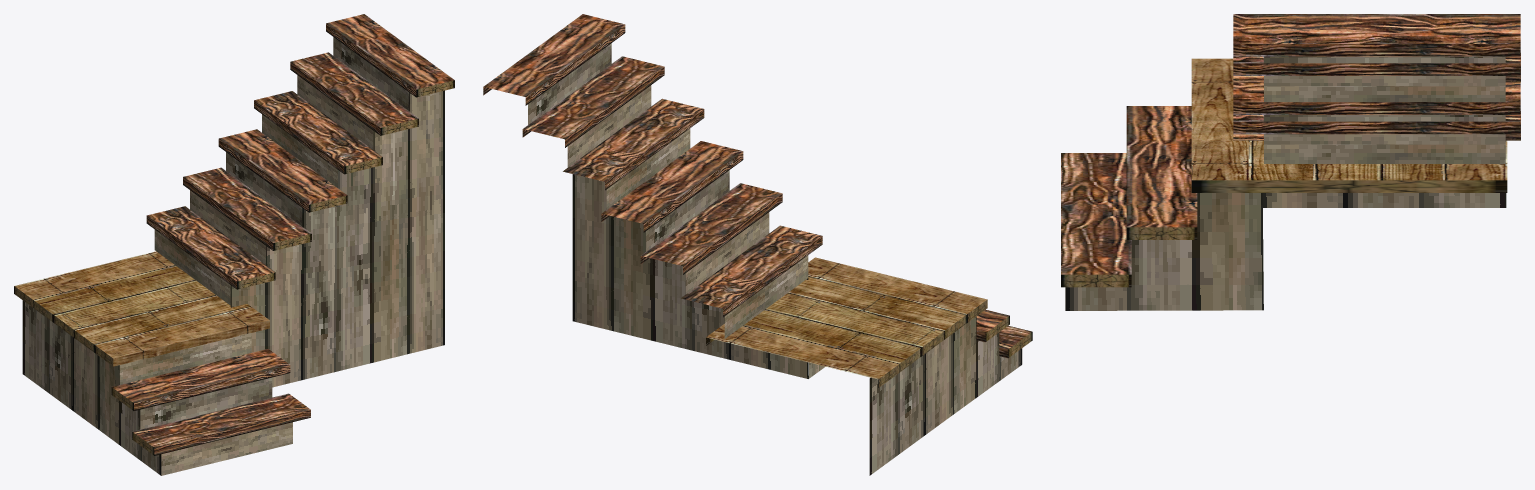
The model's file is LAKETOWN_GRANDMA_PS_GM_STAIR33.fbx.
The picture shows the model from 3 angles, left to right: view 1: azimuth 30°, elevation 25°; view 2: azimuth 150°, elevation 25°; view 3: azimuth 270°, elevation 25°; orthographic projection. The views are drawn at different scales.
Parts seen in each view (by area): view 1: LAKETOWN_GRANDMA_PS_GM_STAIR33; view 2: LAKETOWN_GRANDMA_PS_GM_STAIR33; view 3: LAKETOWN_GRANDMA_PS_GM_STAIR33.
Boxes of the visible parts, x1=… form: LAKETOWN_GRANDMA_PS_GM_STAIR33: x1=14, y1=14, x2=454, y2=475; LAKETOWN_GRANDMA_PS_GM_STAIR33: x1=483, y1=14, x2=1032, y2=475; LAKETOWN_GRANDMA_PS_GM_STAIR33: x1=1061, y1=14, x2=1520, y2=310.
Size of the model in its own units: 33189 by 24396 by 23438.
Materials: 5 (5 with a texture image).
